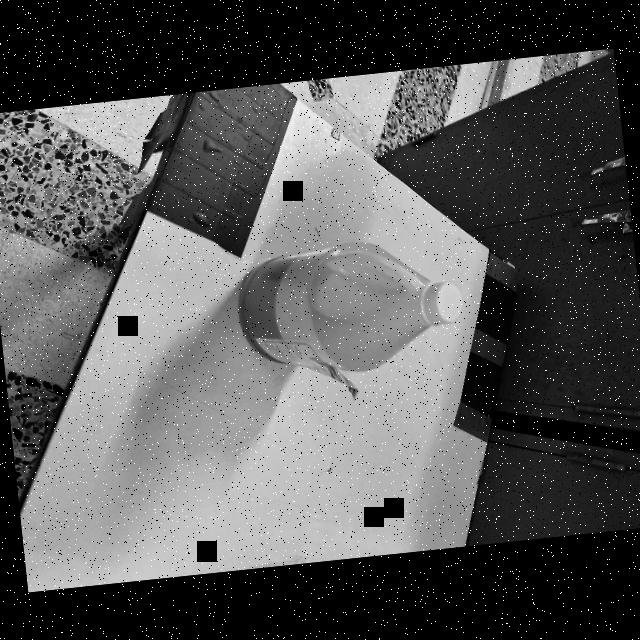chemical_plastic_gallon: (230, 217, 483, 407)
